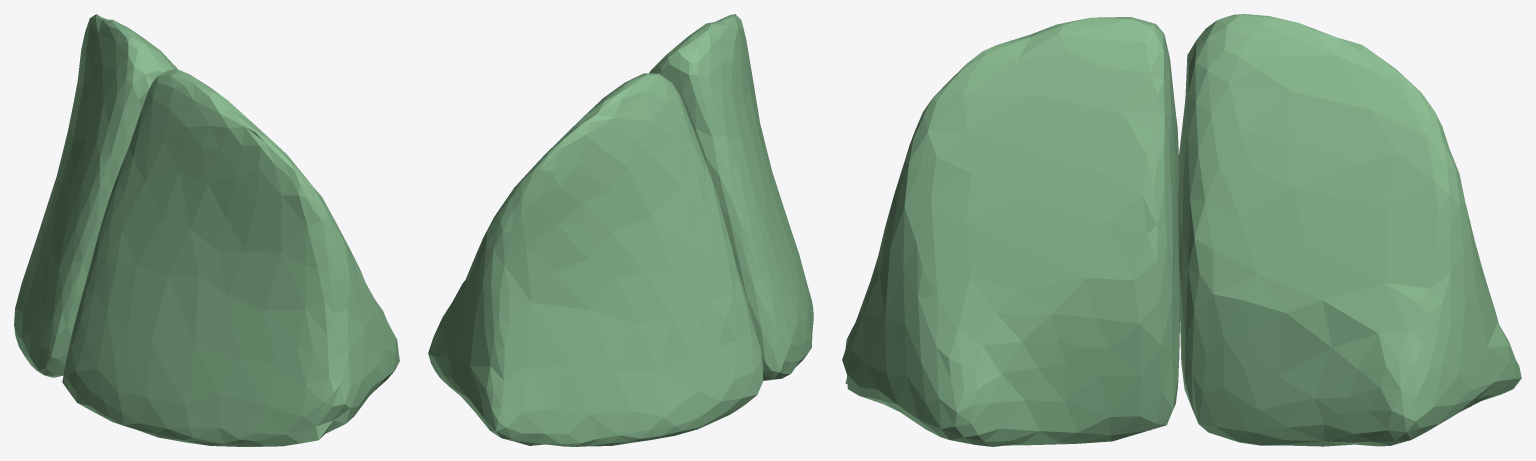
3 renders of one model, left to right at view 1: azimuth 30°, elevation 25°; view 2: azimuth 150°, elevation 25°; view 3: azimuth 270°, elevation 25°, orthographic. The views are drawn at different scales.
Visible parts, largest first — view 1: 44.obj; view 2: 44.obj; view 3: 44.obj.
Part boxes in pixels (bbox=[...]): 44.obj: bbox=[14, 14, 399, 446]; 44.obj: bbox=[428, 14, 813, 446]; 44.obj: bbox=[842, 14, 1521, 446].
Size of the model in its own units: 968 by 1162 by 1861.
